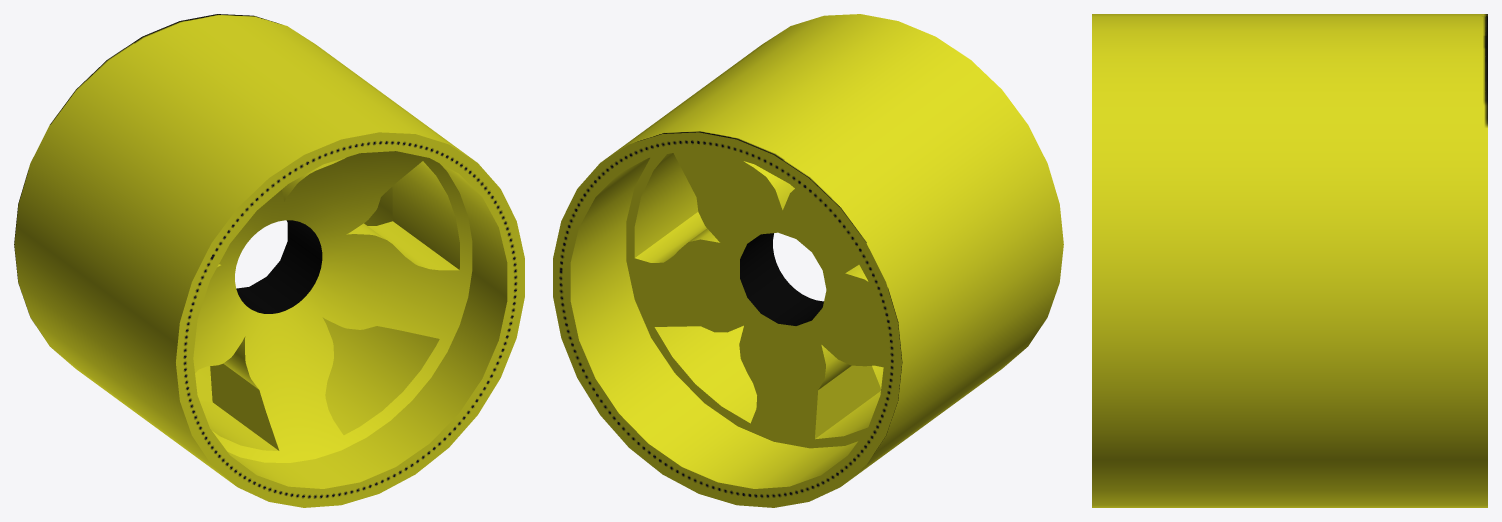
File: f1cart_rrim.dae
3 views of the same model, side by side, from view 1: azimuth 30°, elevation 25°; view 2: azimuth 150°, elevation 25°; view 3: azimuth 270°, elevation 25° (orthographic). The views are drawn at different scales.
Visible parts, largest first — view 1: mesh_1_rear_rim; view 2: mesh_1_rear_rim; view 3: mesh_1_rear_rim.
Part boxes in pixels (x1,y1,x2,y2): mesh_1_rear_rim: [14, 14, 524, 507]; mesh_1_rear_rim: [553, 14, 1063, 507]; mesh_1_rear_rim: [1092, 14, 1487, 507].
Bounding box in the file's own units: 0.0798 × 0.064 × 0.0799.
Materials: 1 (1 with a texture image).
